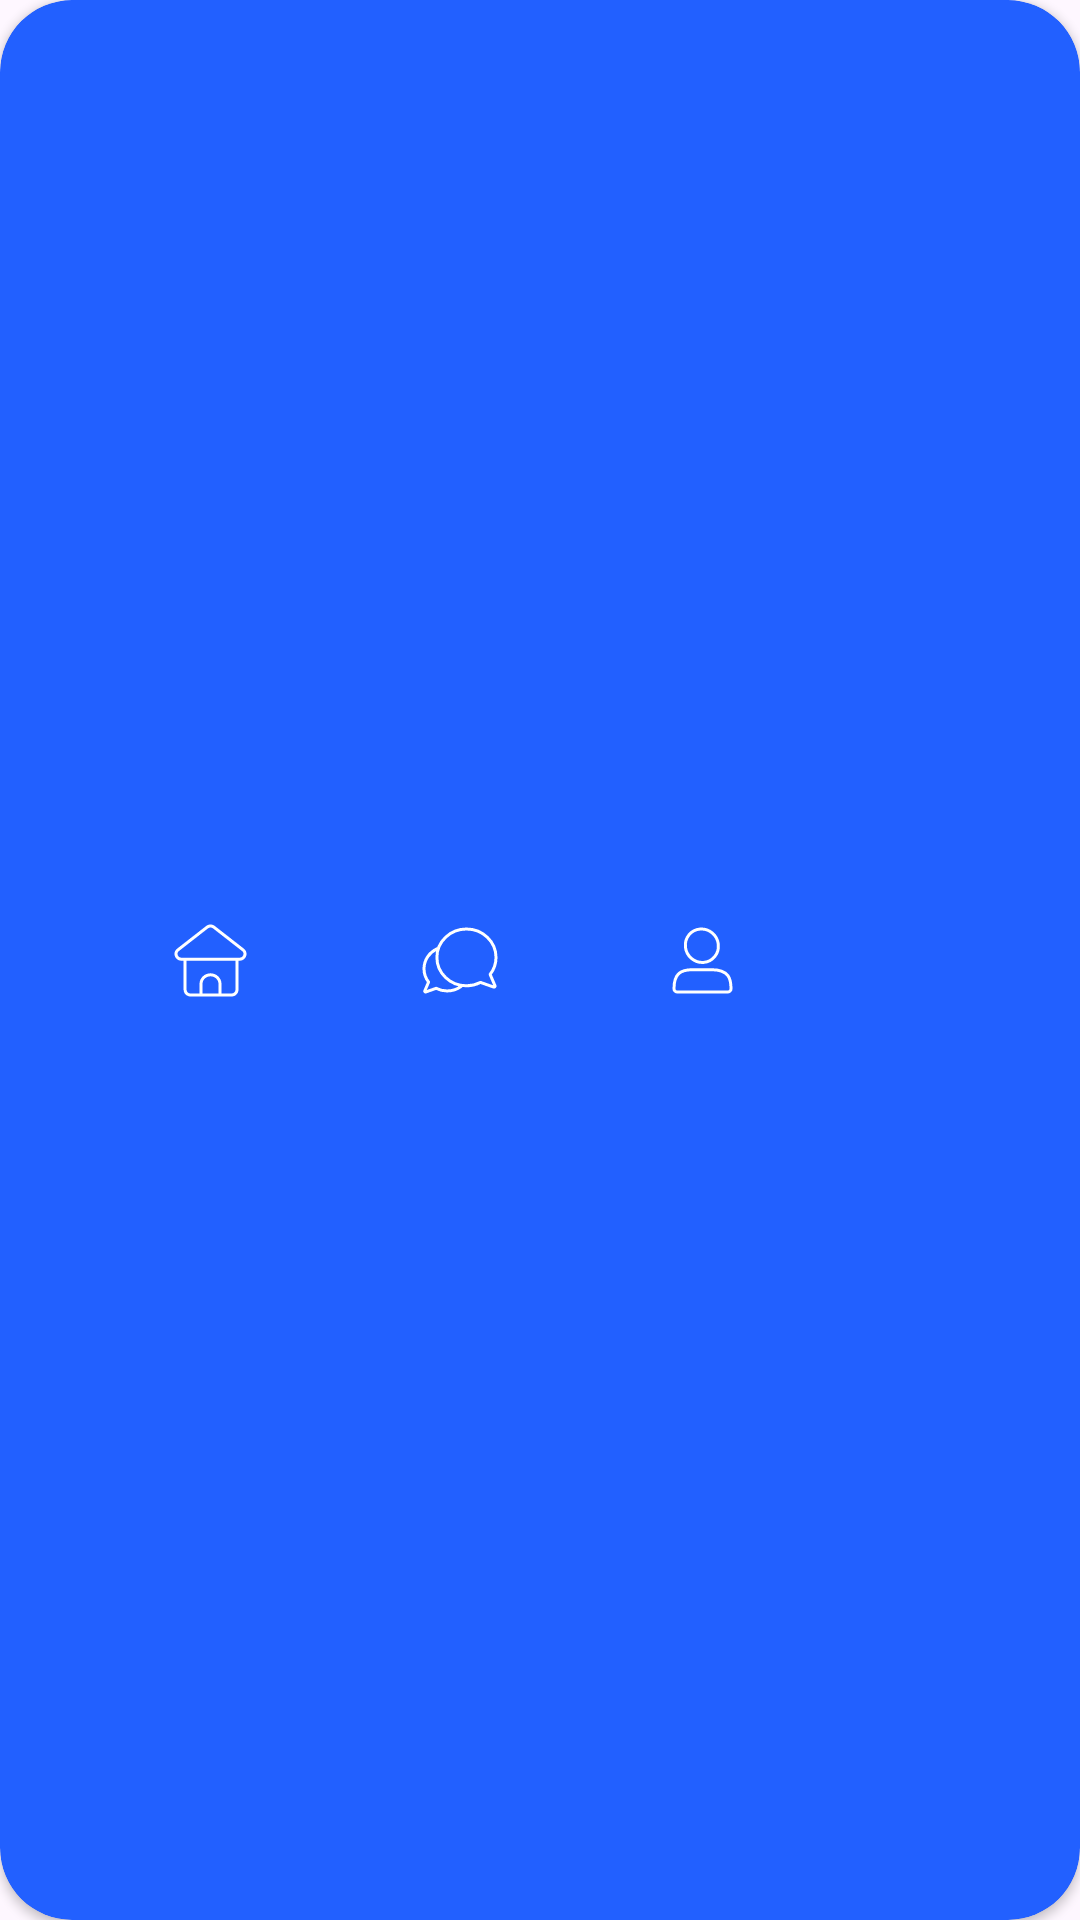

Point at icon controls on the screen. Image size 1080px×1920px, points as (x=x, y=y).
chat: (x=460, y=960)
home: (x=210, y=960)
profile: (x=702, y=960)
